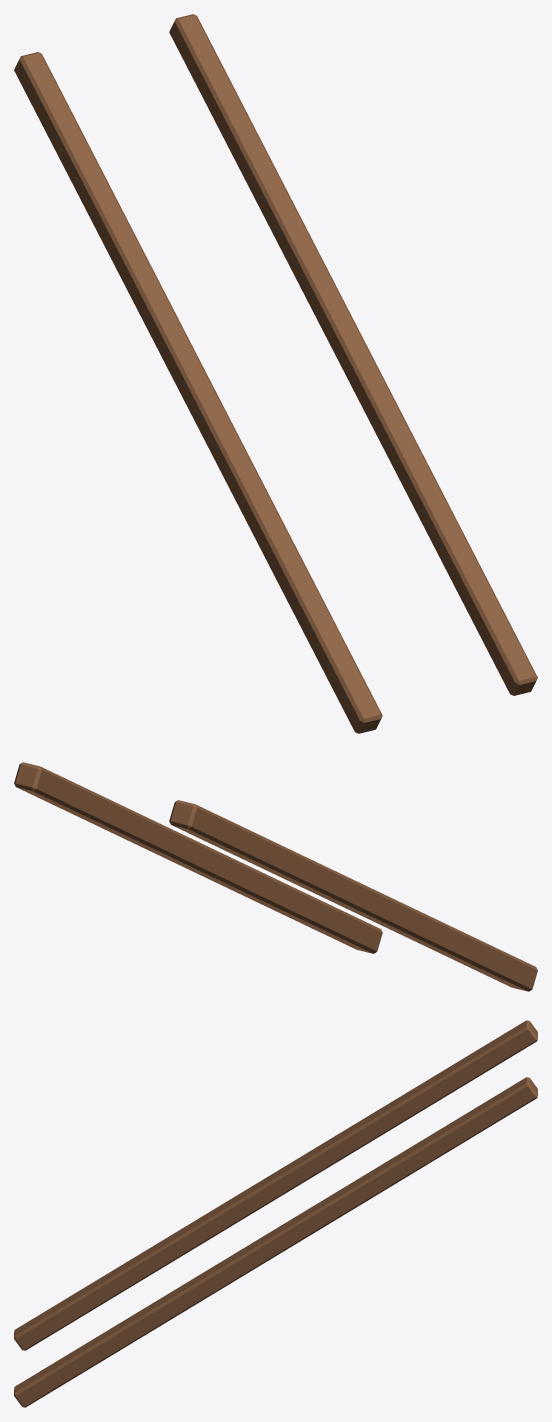
The model's file is Stair_Stringers.glb.
3 views of the same model, one above another, from view 1: azimuth 30°, elevation 25°; view 2: azimuth 150°, elevation 25°; view 3: azimuth 270°, elevation 25° (orthographic). The views are drawn at different scales.
Visible parts, largest first — view 1: Stair_Stringers__立方体, Stair_Stringers__立方体.001; view 2: Stair_Stringers__立方体, Stair_Stringers__立方体.001; view 3: Stair_Stringers__立方体, Stair_Stringers__立方体.001.
Boxes of the visible parts, x1=… form: Stair_Stringers__立方体: x1=14, y1=52, x2=382, y2=733; Stair_Stringers__立方体.001: x1=169, y1=14, x2=537, y2=695; Stair_Stringers__立方体: x1=169, y1=800, x2=537, y2=991; Stair_Stringers__立方体.001: x1=14, y1=762, x2=382, y2=953; Stair_Stringers__立方体: x1=14, y1=1020, x2=537, y2=1350; Stair_Stringers__立方体.001: x1=14, y1=1077, x2=537, y2=1407.
Bounding box in the file's own units: 1.58 × 3.67 × 5.37.
